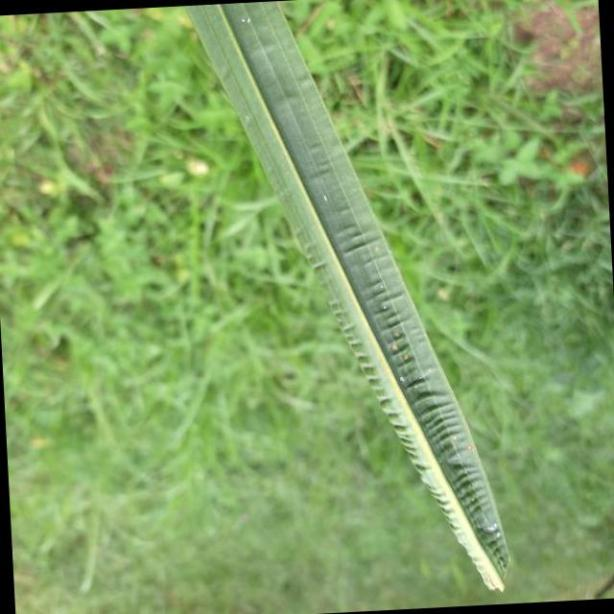Boron: (186, 0, 518, 595)
